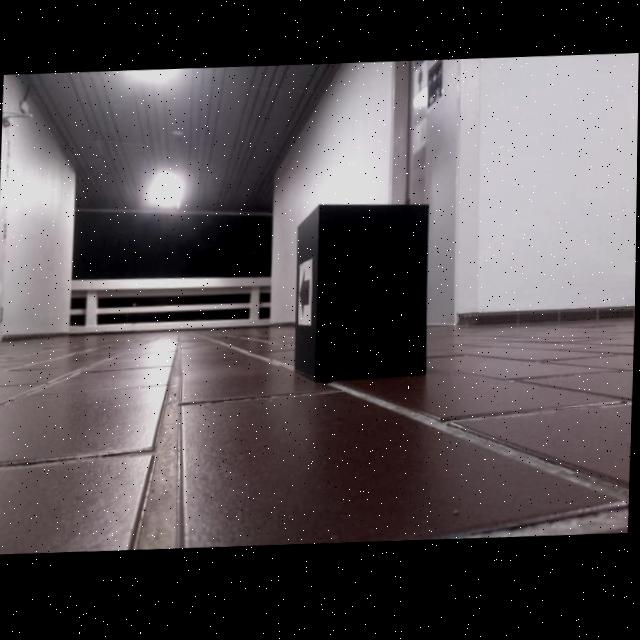LEFT: (300, 269, 311, 321)
